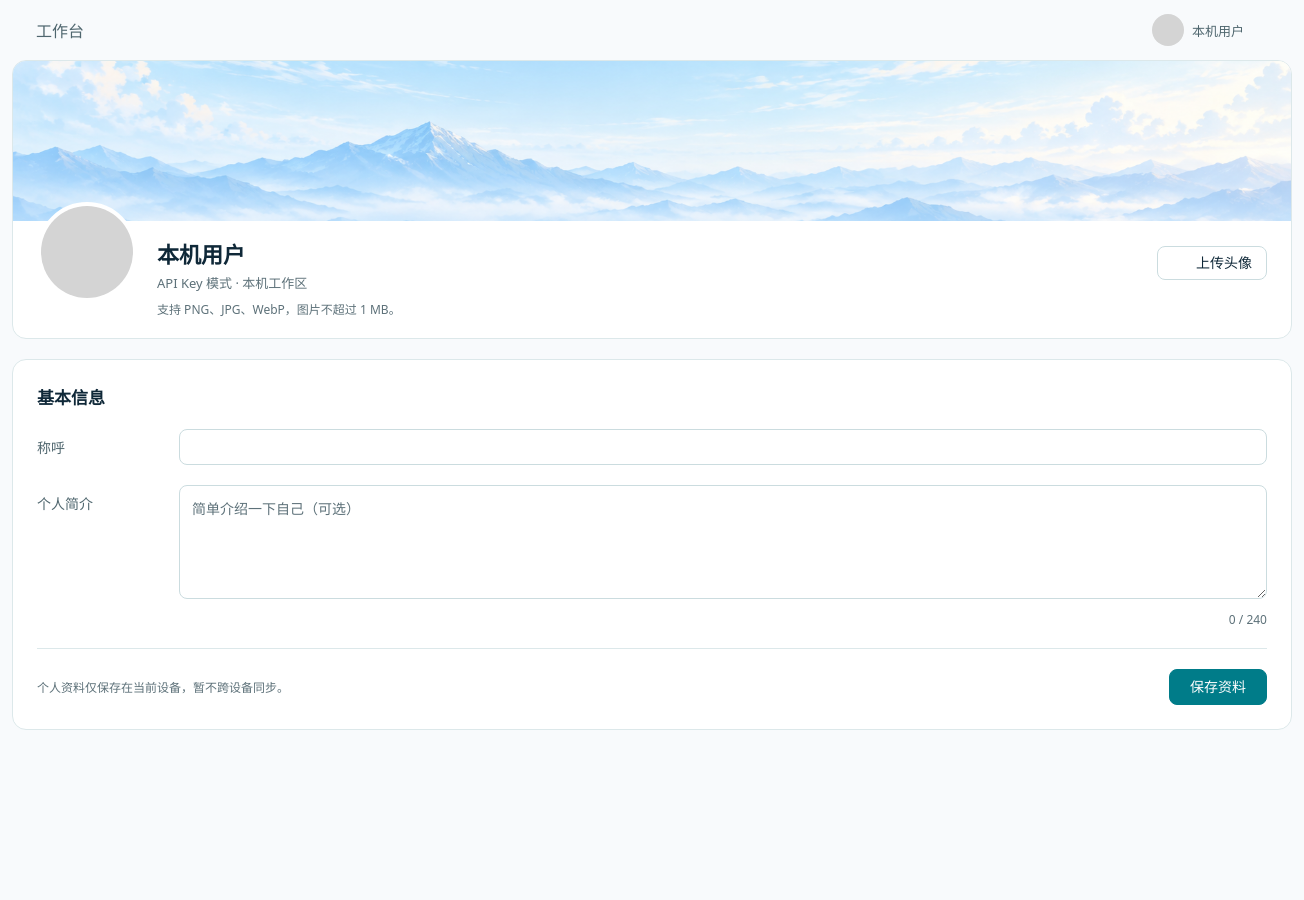
ProfileSettingsPanel › 保存资料后顶栏立即同步，保存失败时不显示未保存称呼
This screenshot has width=1304, height=900.
Type "开发搭档" into the field labelled "称呼" at (723, 447), box top-left (179, 429), bottom-right (1267, 465)
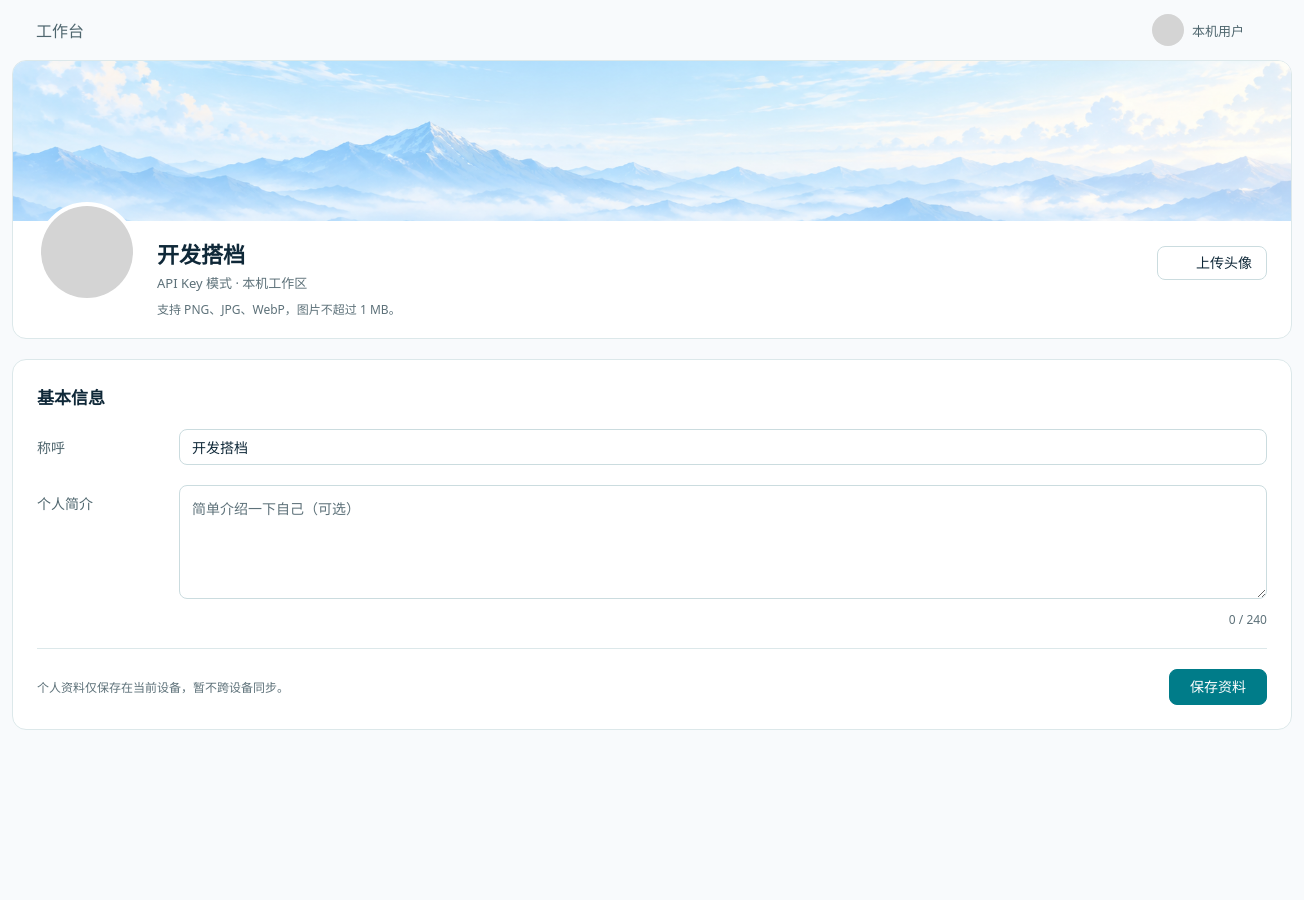
Check: the button with class "workspace-header__profile" reads "本机用户", box top-left (1148, 10), bottom-right (1268, 50)
Click the button with test id "profile-save" at (1218, 687), box top-left (1169, 669), bottom-right (1267, 705)
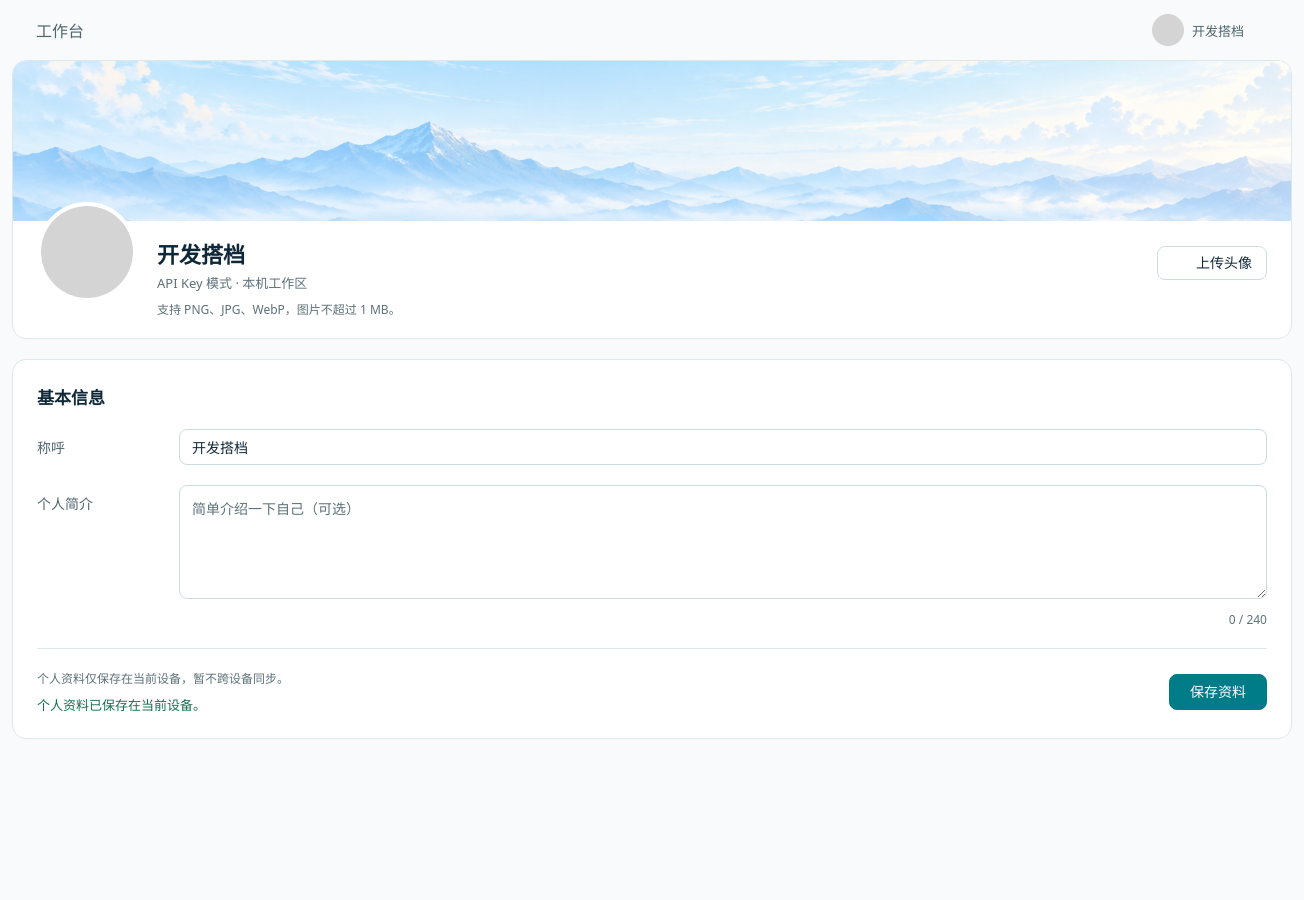
Check: the button with class "workspace-header__profile" reads "开发搭档", box top-left (1148, 10), bottom-right (1268, 50)
Replace the text in the field labelled "称呼" with "未保存称呼" at (723, 447), box top-left (179, 429), bottom-right (1267, 465)
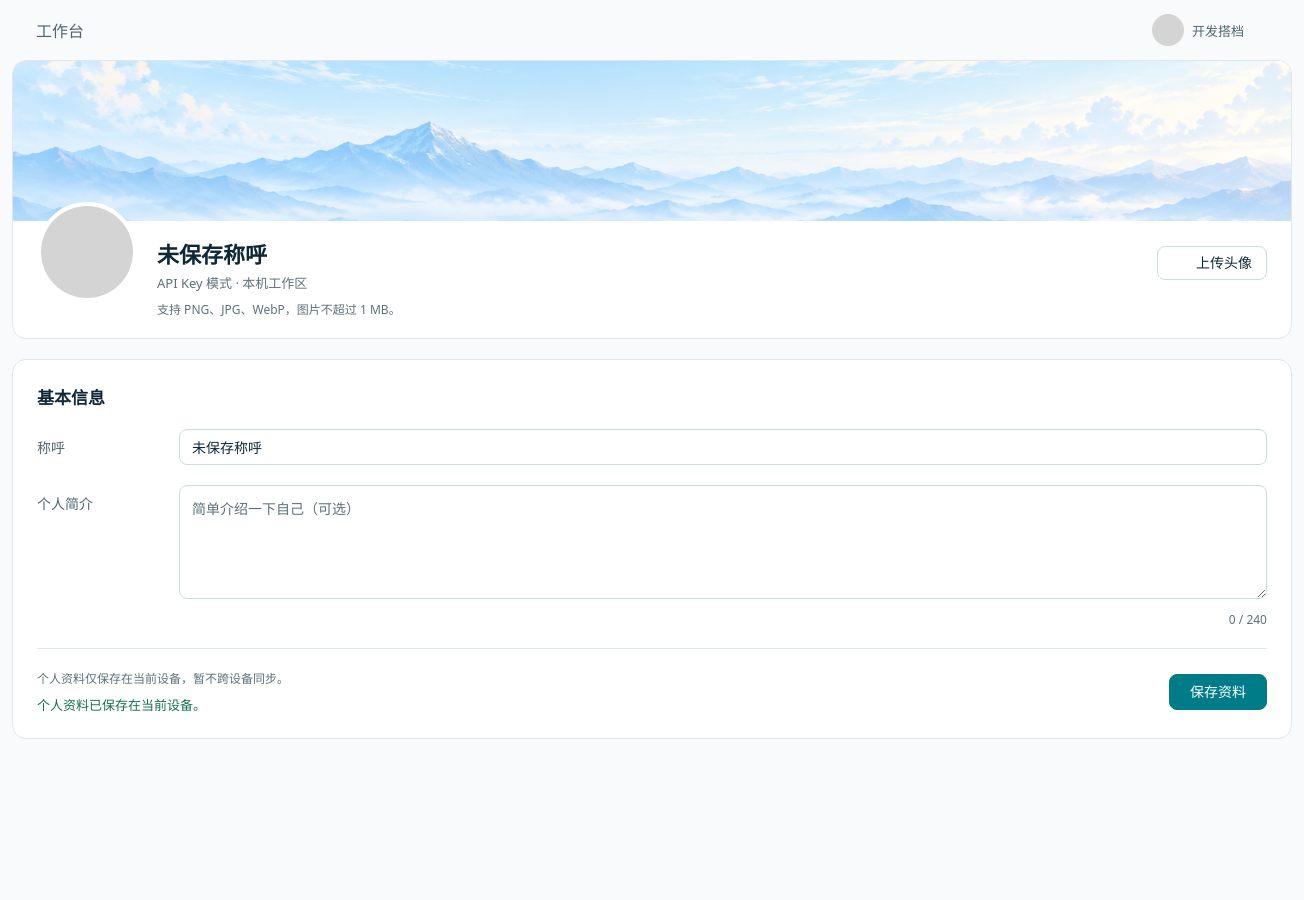
Click the button with test id "profile-save" at (1218, 692), box top-left (1169, 674), bottom-right (1267, 710)
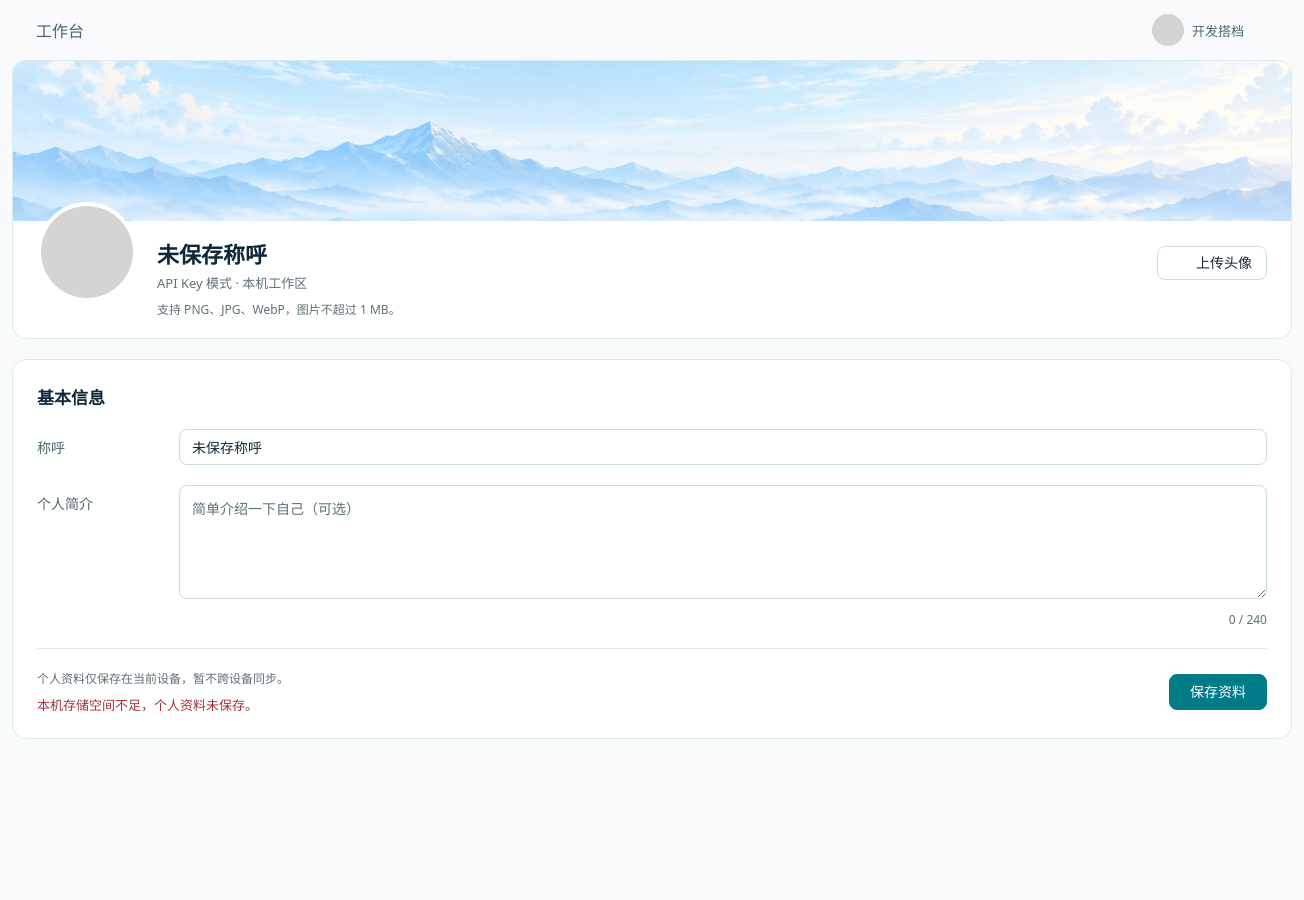
Check: the button with class "workspace-header__profile" reads "开发搭档", box top-left (1148, 10), bottom-right (1268, 50)
Check: the text "个人资料未保存" is shown, box top-left (37, 696), bottom-right (258, 714)
